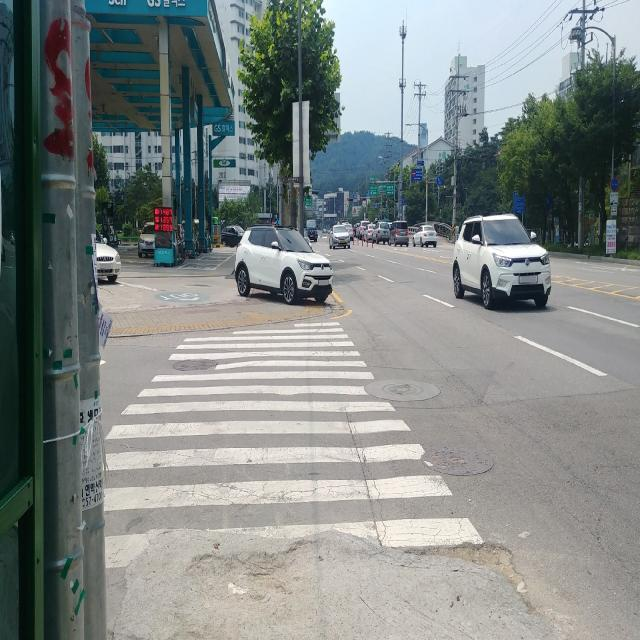횡단보도: (103, 322, 485, 568)
